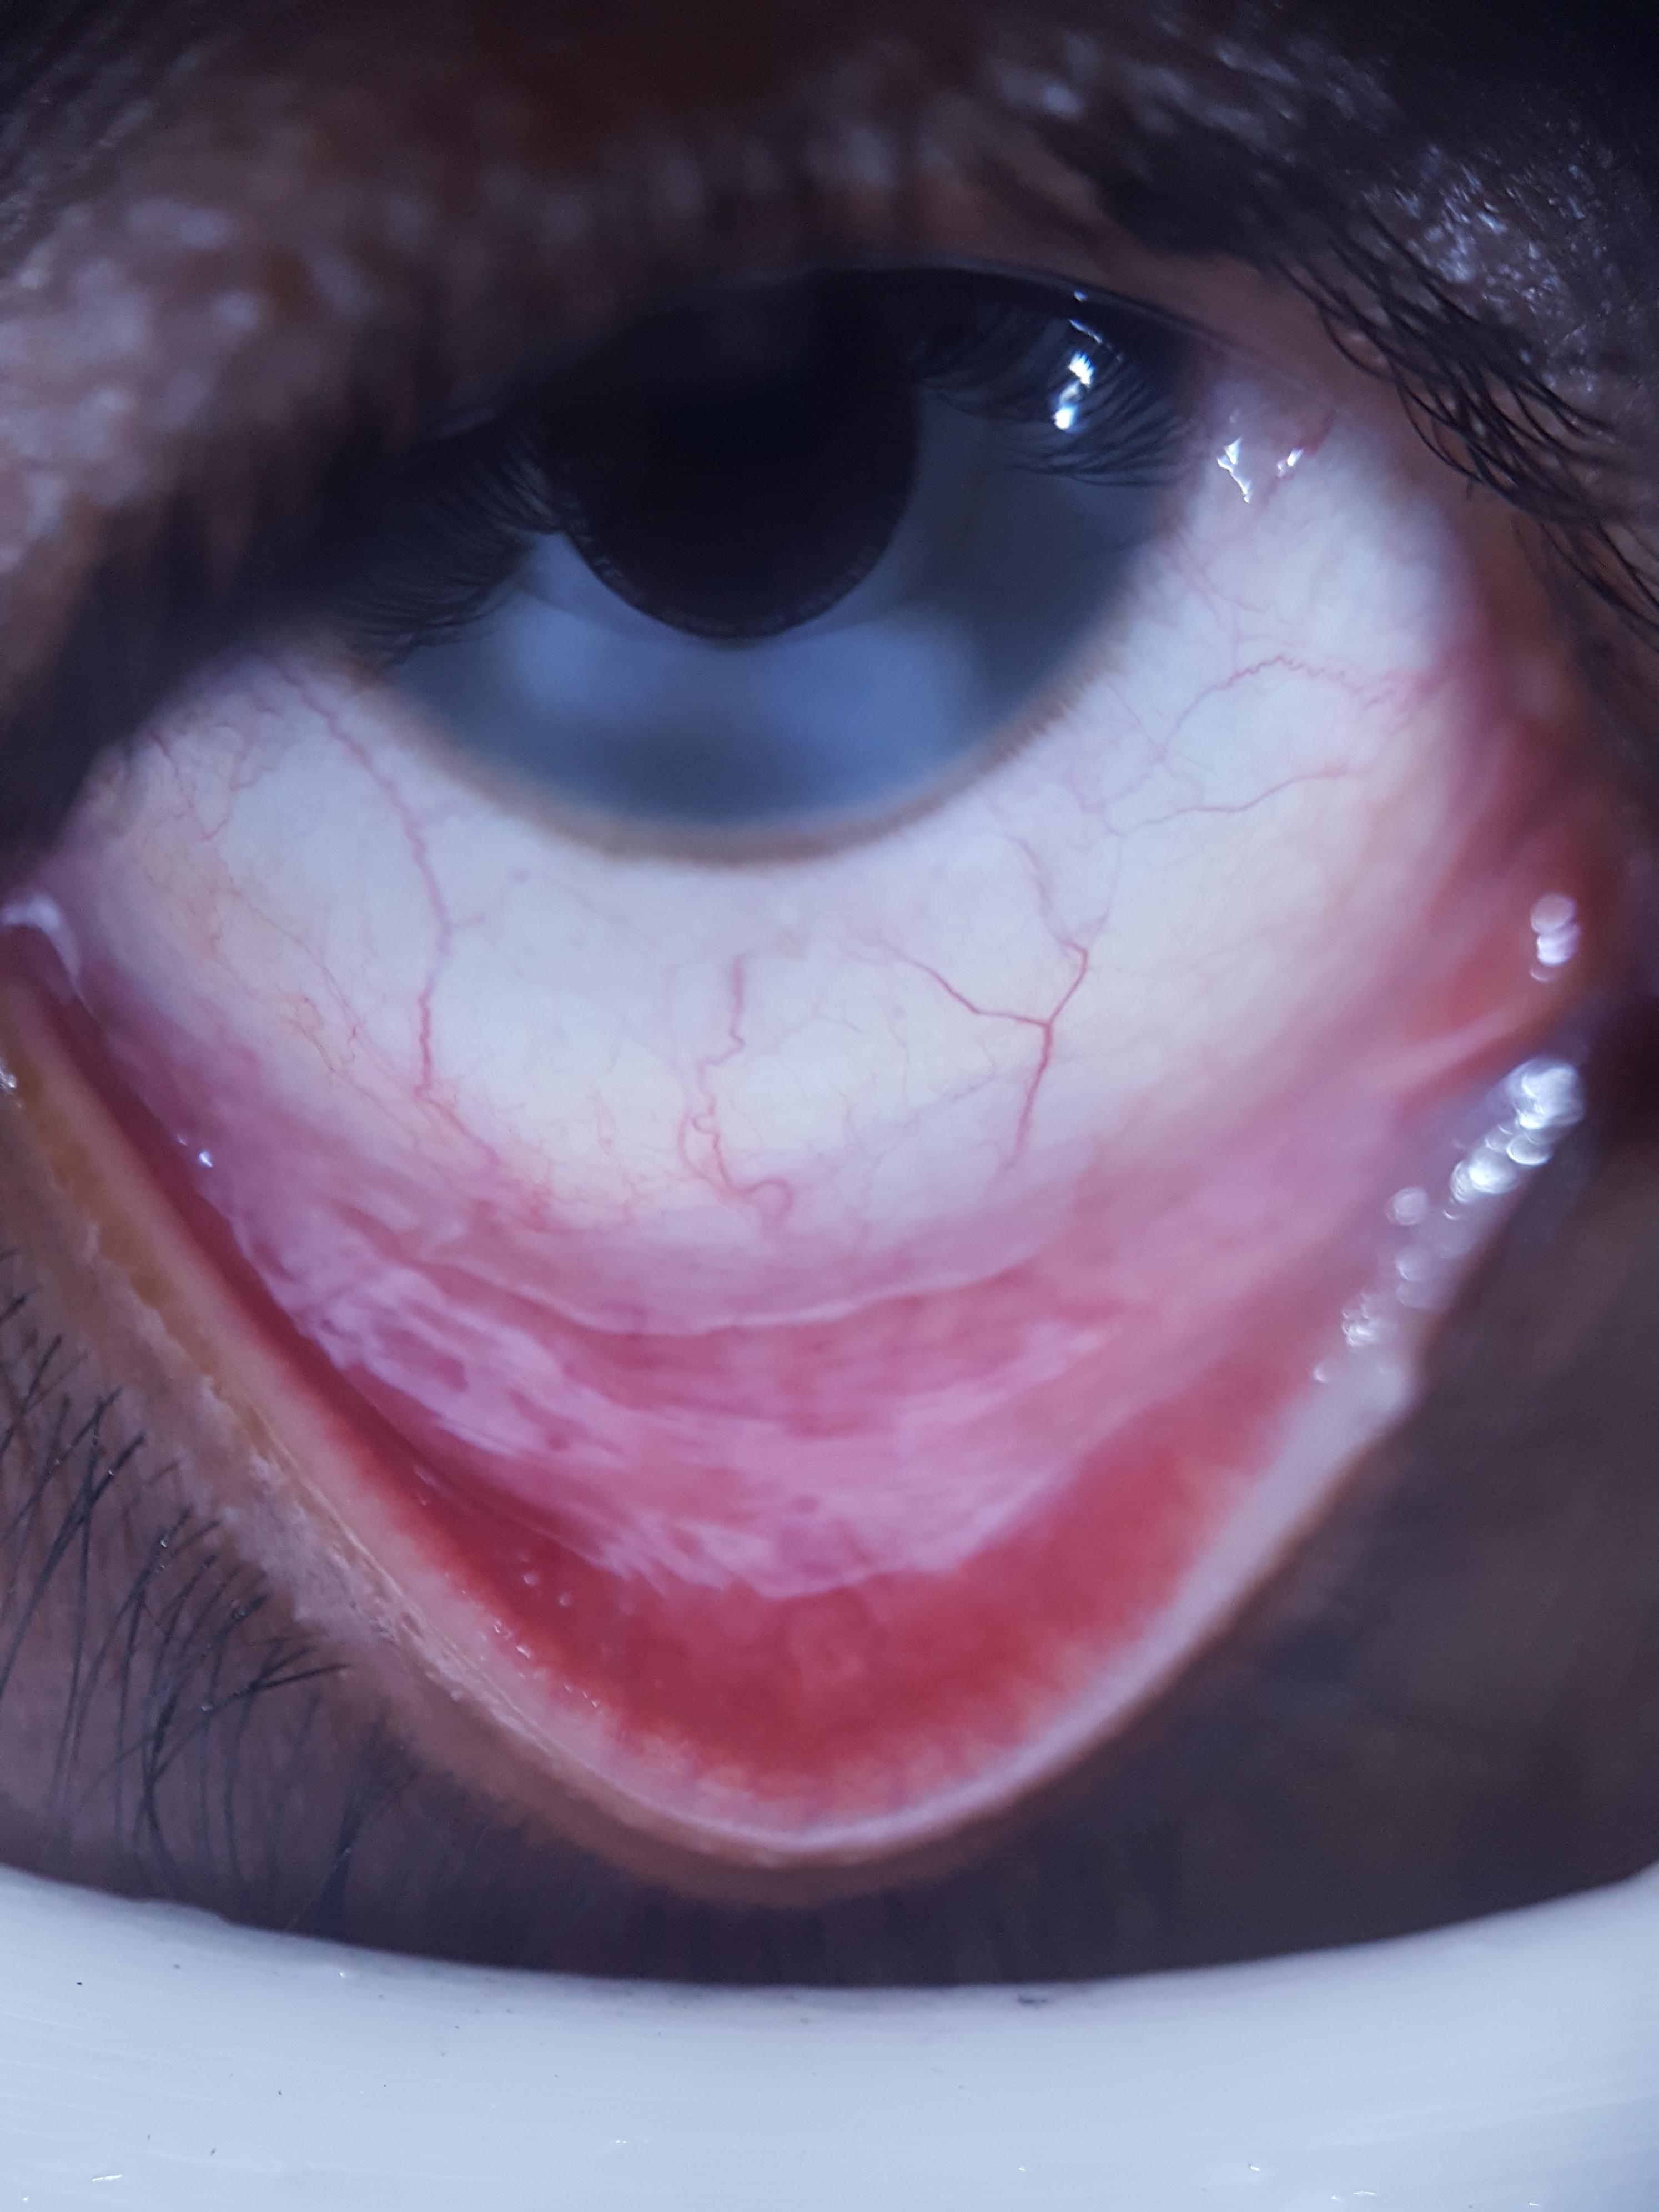forniceal: (64, 897, 1530, 1602)
forniceal_palpebral: (0, 888, 1577, 1822)
palpebral: (2, 930, 1558, 1810)
